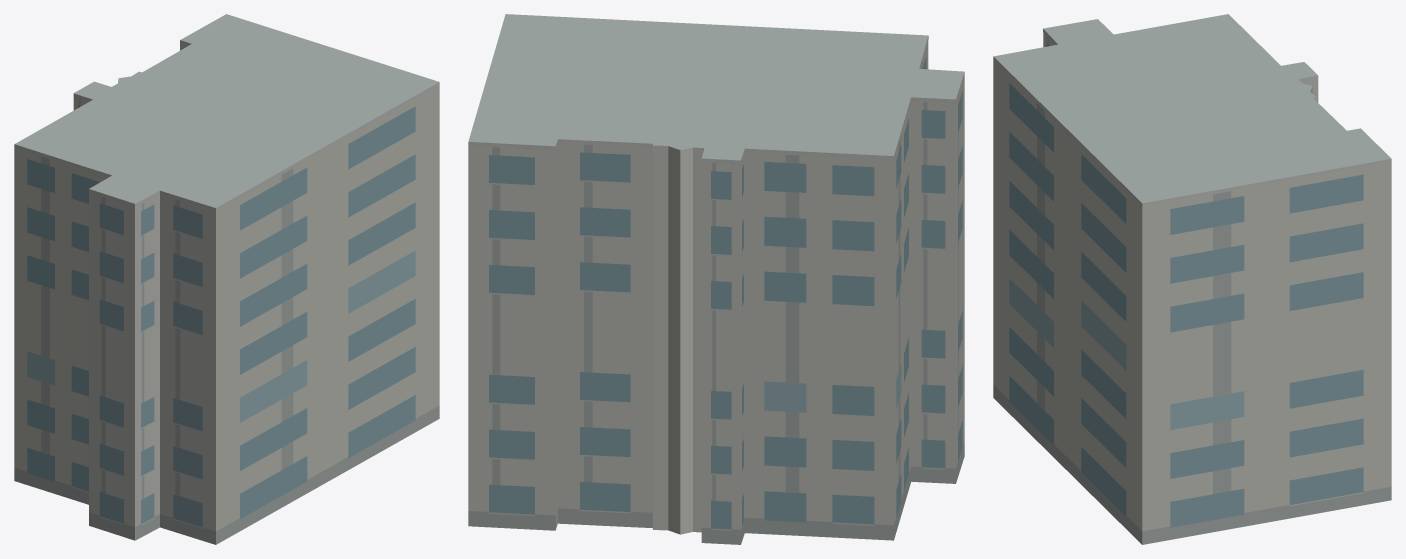
The model's file is survey-upis-32555237.glb.
3 views of the same model, side by side, from view 1: azimuth 30°, elevation 25°; view 2: azimuth 150°, elevation 25°; view 3: azimuth 270°, elevation 25° (orthographic). The views are drawn at different scales.
Parts seen in each view (by area): view 1: survey-upis-32555237.tmp; view 2: survey-upis-32555237.tmp; view 3: survey-upis-32555237.tmp.
Boxes of the visible parts, x1=… form: survey-upis-32555237.tmp: x1=14, y1=14, x2=439, y2=544; survey-upis-32555237.tmp: x1=468, y1=14, x2=964, y2=544; survey-upis-32555237.tmp: x1=993, y1=14, x2=1391, y2=544.
Size of the model in its own units: 26.76 by 22.5 by 23.77.
